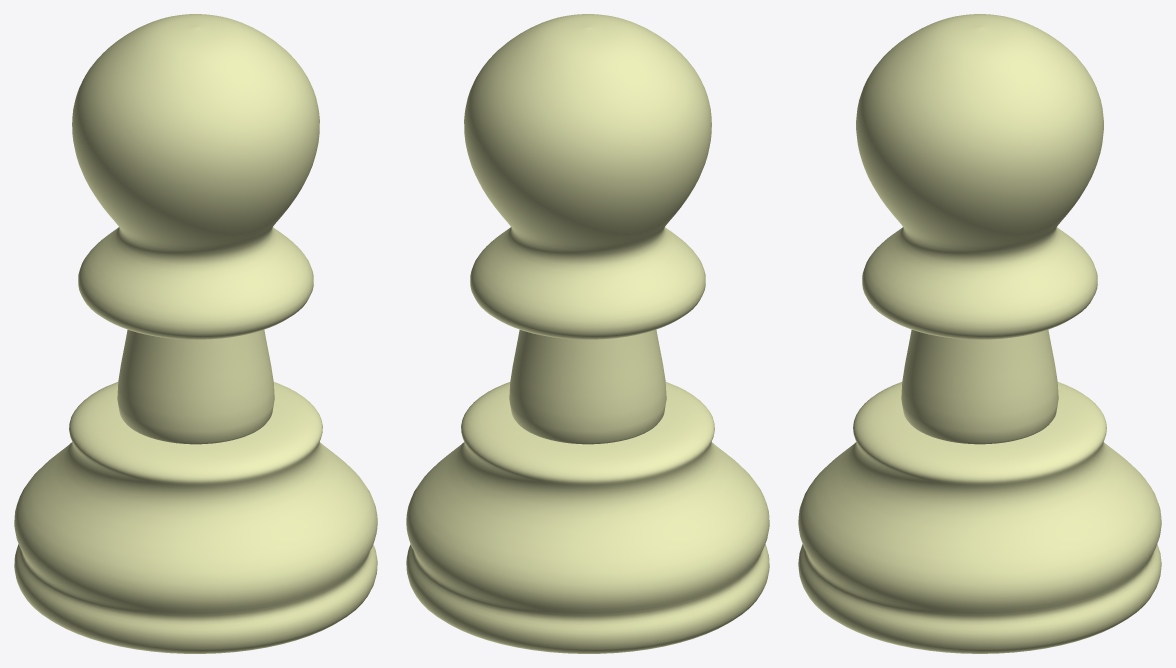
File: pion.fbx
3 views of the same model, side by side, from view 1: azimuth 30°, elevation 25°; view 2: azimuth 150°, elevation 25°; view 3: azimuth 270°, elevation 25° (orthographic).
Visible parts, largest first — view 1: Kostka, Cube; view 2: Kostka, Cube; view 3: Kostka, Cube.
Part boxes in pixels (x1,y1,x2,y2): Kostka: (72,14,319,444); Cube: (14,382,377,653); Kostka: (464,14,711,444); Cube: (406,382,769,653); Kostka: (856,14,1103,444); Cube: (798,382,1161,653).
Bounding box in the file's own units: 271 × 463 × 271.
